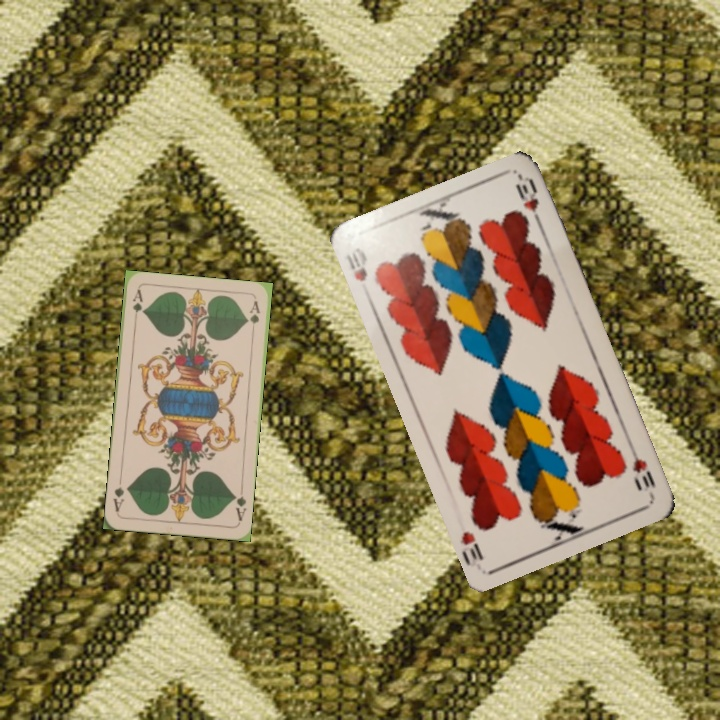GA: (230, 484, 249, 523), (128, 286, 145, 326)
H10: (625, 442, 658, 499), (342, 248, 370, 284)
